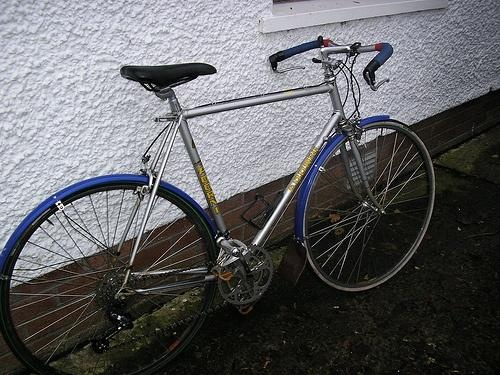bicycle: (1, 36, 436, 375)
